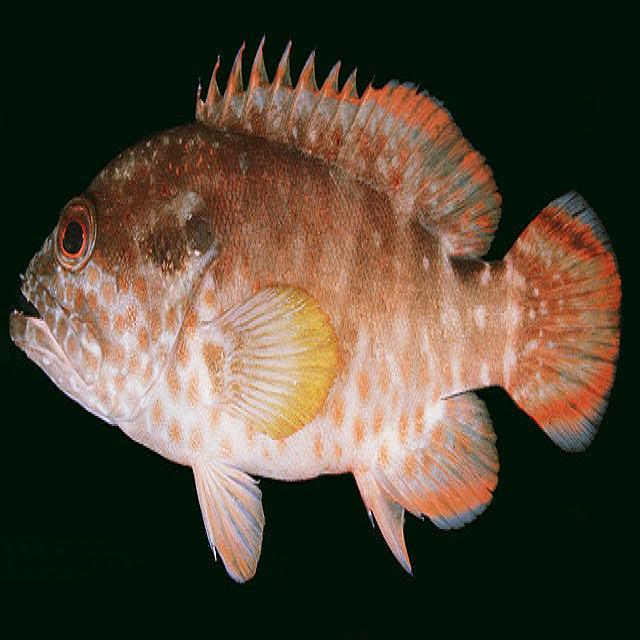ikan: (8, 32, 623, 584)
